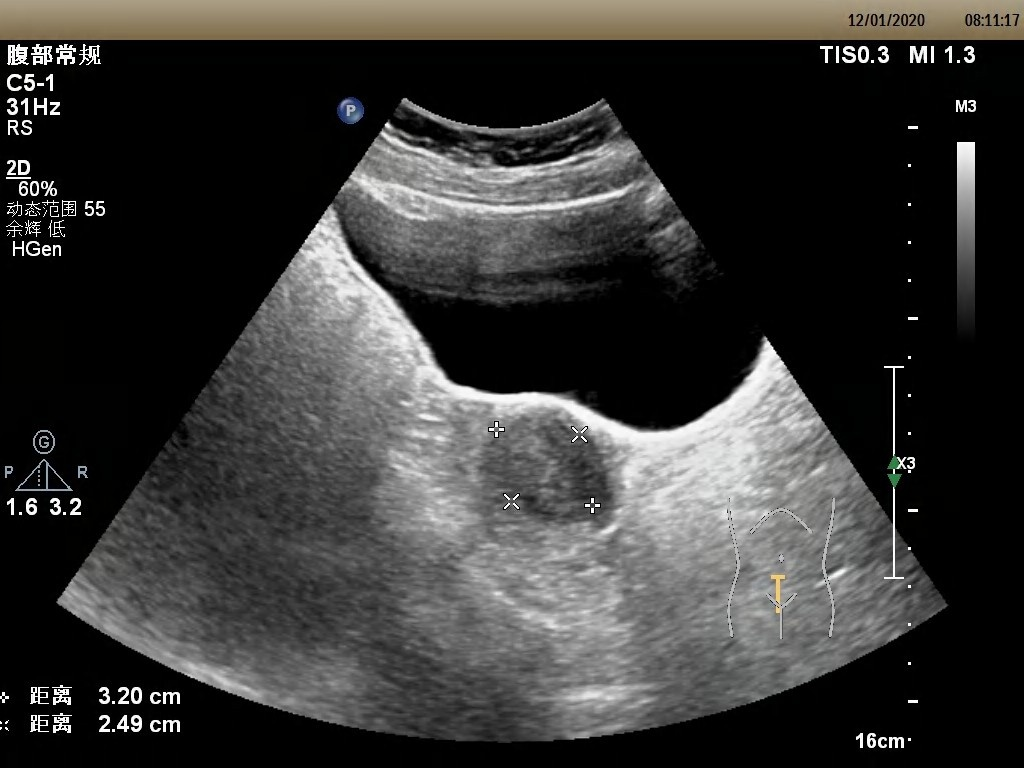肌瘤: (493, 415, 610, 517)
